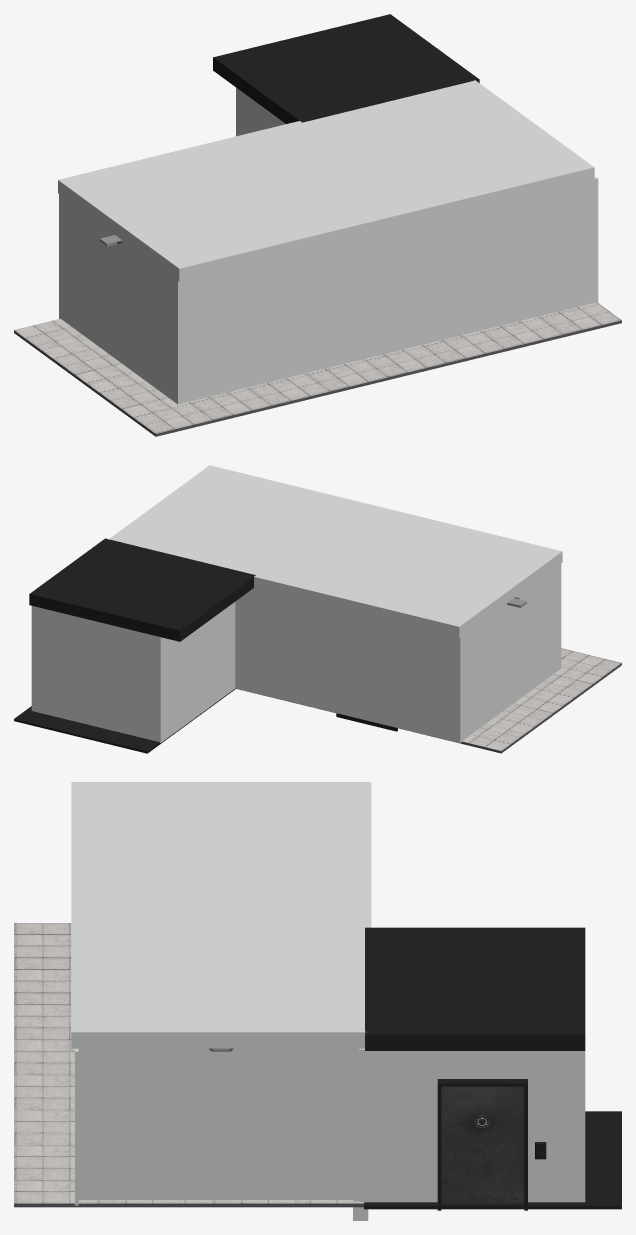
File: SCP 513 Containment Chamber.obj
3 renders of one model, top to bottom at view 1: azimuth 30°, elevation 25°; view 2: azimuth 150°, elevation 25°; view 3: azimuth 270°, elevation 25°, orthographic. The views are drawn at different scales.
Visible parts, largest first — view 1: Part43, Part75, Part100, Part84, Part86, Part90, Part103, Part73, Part92, Part28, Part36, Part54 (+6 smaller); view 2: Part43, Part34, Part100, Part77, Part84, Part106, Part76, Part86, Part90, Part103, Part83, Part99; view 3: Part43, Part71, Part100, Part50, Door2, Part108, Part76, Part44, Part36, Part42, Part68, Part92 (+9 smaller).
Part boxes in pixels (box(x1,y1,x2,y2)): Part43: box(58, 80, 594, 281); Part75: box(176, 177, 598, 404); Part100: box(213, 14, 479, 123); Part84: box(65, 199, 180, 402); Part86: box(122, 398, 213, 433); Part90: box(42, 339, 121, 374); Part103: box(89, 373, 168, 409); Part73: box(190, 387, 271, 419); Part92: box(481, 316, 563, 348); Part28: box(306, 359, 388, 391); Part36: box(539, 302, 621, 334); Part54: box(248, 373, 329, 405); Part43: box(108, 465, 562, 637); Part34: box(235, 588, 465, 743); Part100: box(29, 538, 255, 641); Part77: box(33, 606, 161, 742); Part84: box(465, 565, 559, 737); Part106: box(158, 602, 235, 742); Part76: box(14, 688, 235, 753); Part86: box(554, 651, 621, 683); Part90: box(485, 703, 552, 733); Part103: box(525, 674, 592, 704); Part83: box(462, 724, 524, 750); Part99: box(514, 695, 564, 712); Part43: box(71, 782, 371, 1048); Part71: box(78, 1048, 352, 1199); Part100: box(365, 927, 585, 1050); Part50: box(359, 1048, 437, 1202); Door2: box(441, 1086, 524, 1203); Part108: box(528, 1051, 585, 1202); Part76: box(364, 1111, 621, 1209); Part44: box(438, 1051, 528, 1078); Part36: box(14, 1168, 96, 1203); Part42: box(14, 1098, 74, 1133); Part68: box(14, 1063, 74, 1098); Part92: box(14, 1133, 74, 1168).
Bounding box in the file's own units: 37.4 × 11.52 × 33.67.
Materials: 19 (6 with a texture image).
